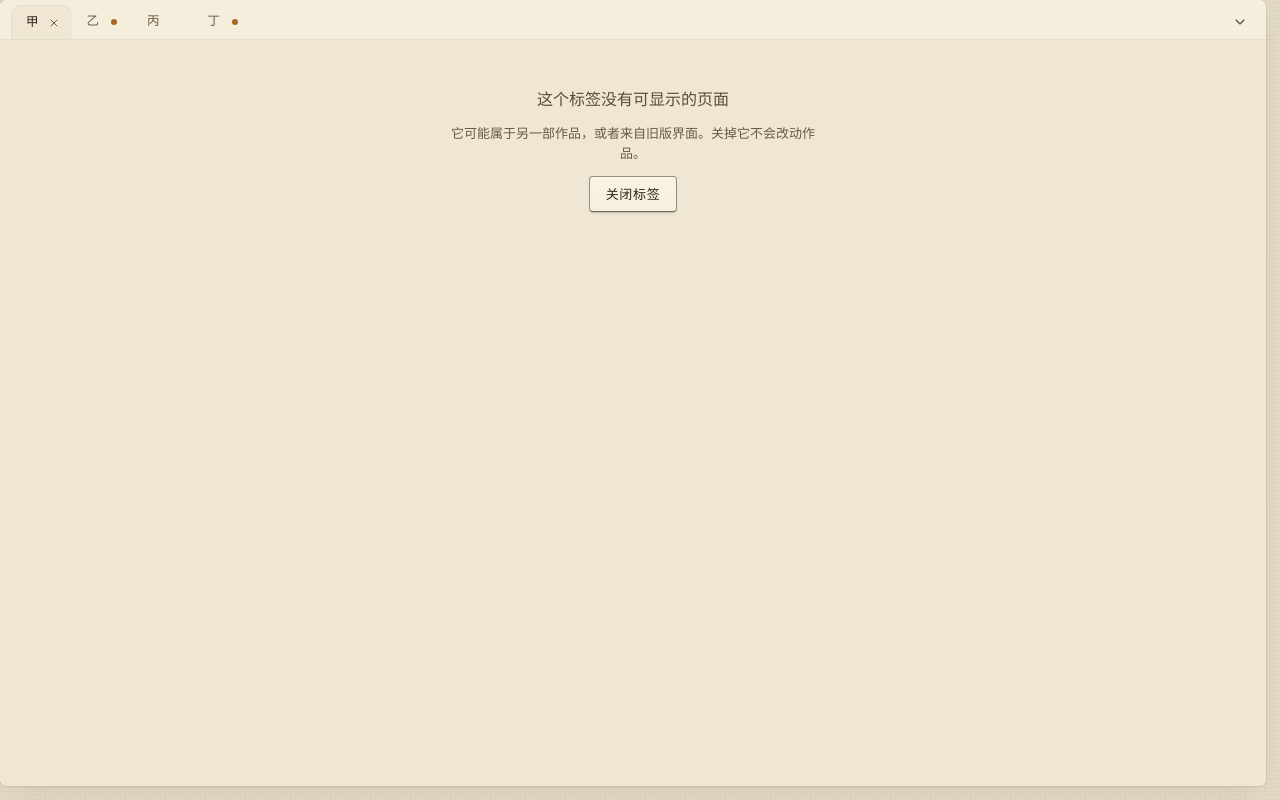
Test: 标签菜单 › 关闭其他标签：没有修改的直接关，有修改的问一次；选继续编辑就留着
Later steps or results of the test are not shown.
What coordinates should you click on to do the following:
click the button named "标签操作"
I would click on:
 (1240, 22)
Its box is [1222,4,1258,40].
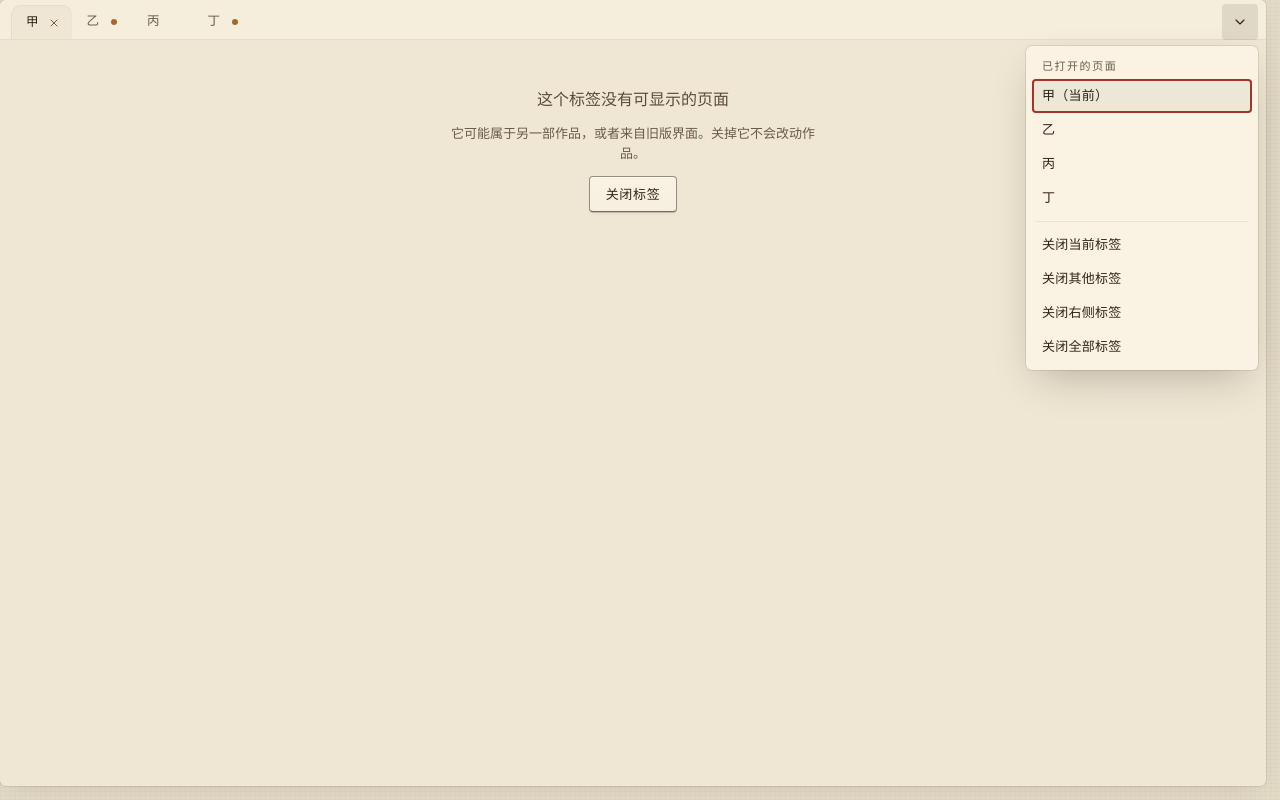
Expected: the menu item "关闭其他标签" is shown
What coordinates should you click on to do the following:
click the menu item "关闭其他标签"
I would click on:
 (1142, 279)
Its box is [1032,262,1252,296].
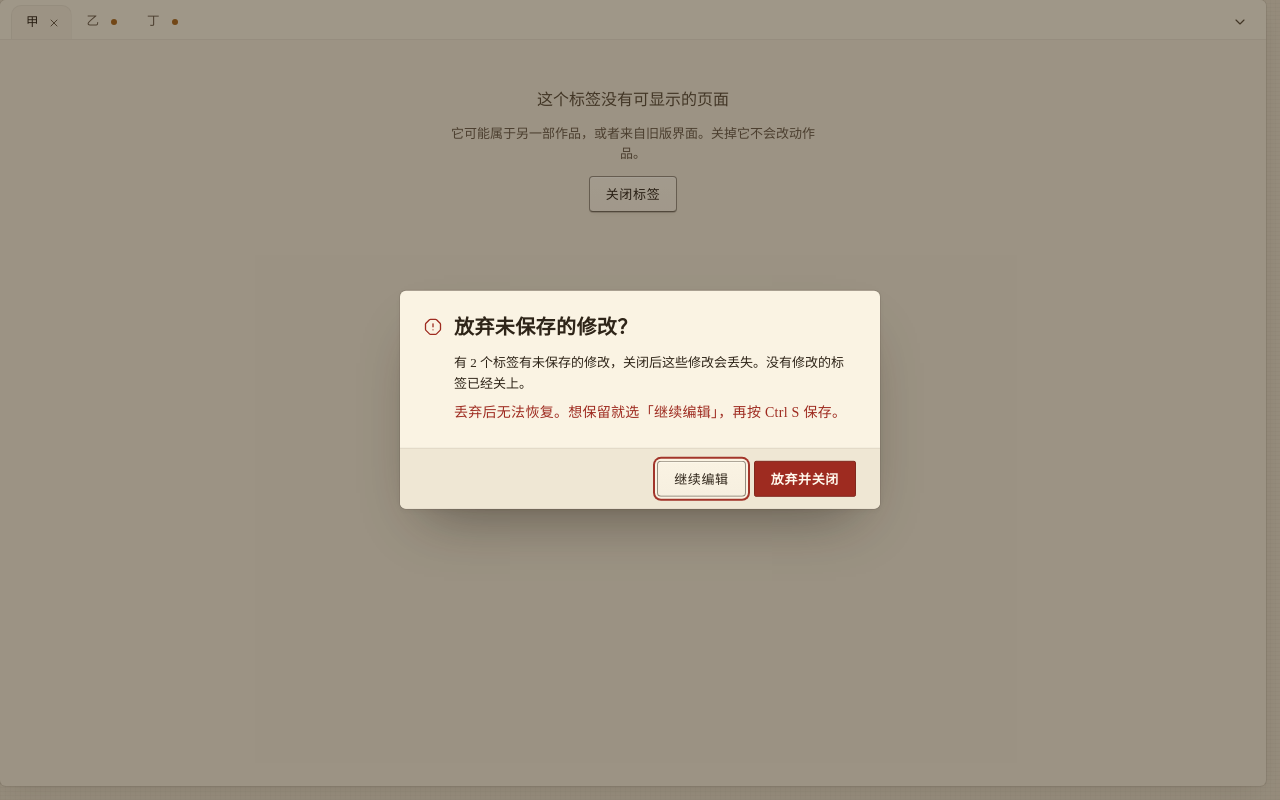
Expected: the dialog shows "有 2 个标签有未保存的修改", [454,355,844,391]
What coordinates should you click on to do the following:
click the button "继续编辑"
I would click on:
 (701, 479)
Its box is [657,461,746,497].
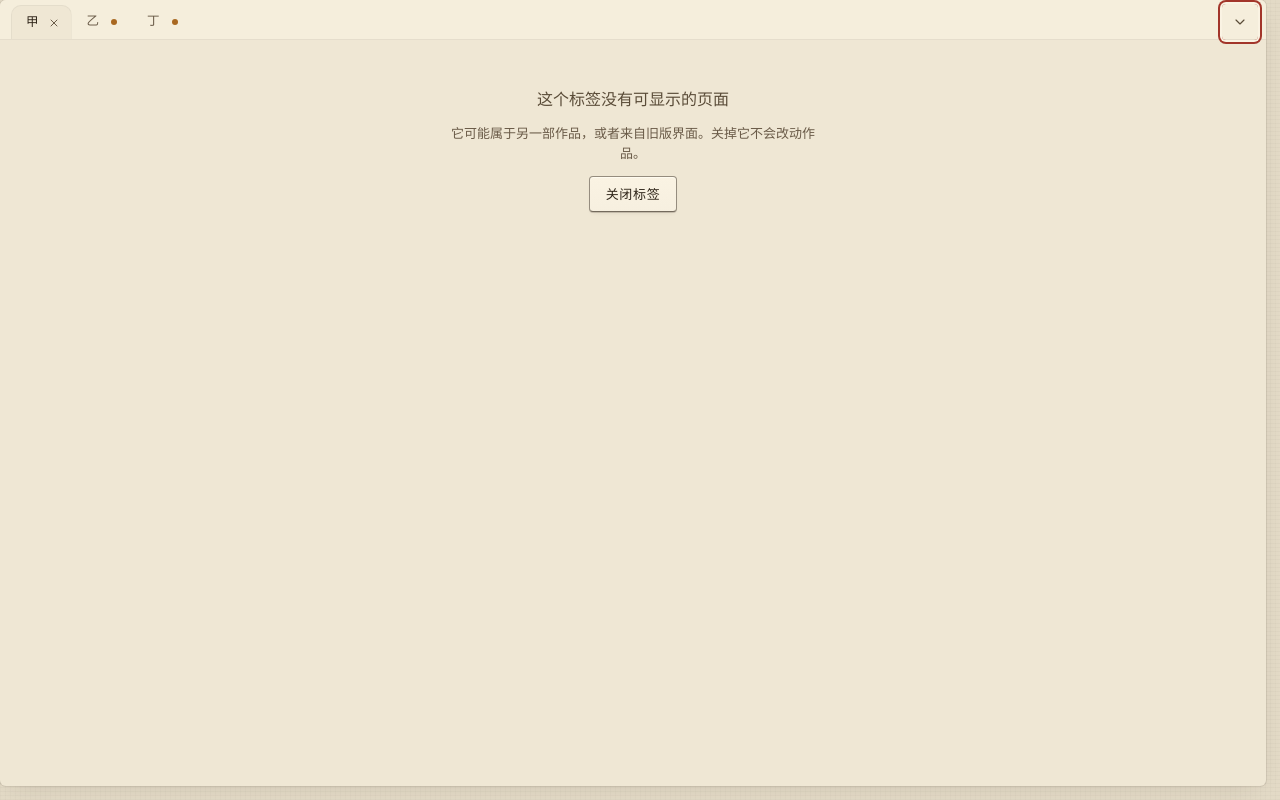
What coordinates should you click on to do the following:
click the button named "标签操作"
I would click on:
 (1240, 22)
Its box is [1222,4,1258,40].
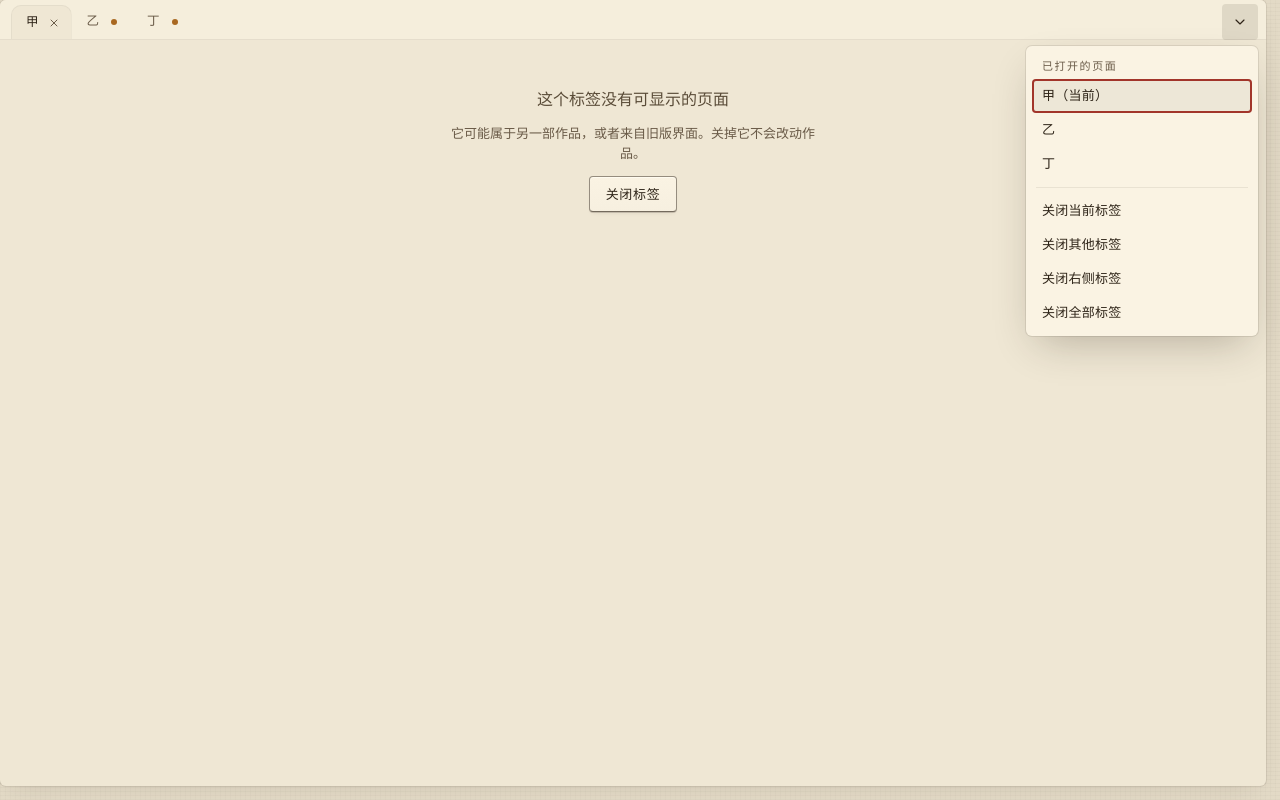
Expected: the menu item "关闭其他标签" is shown, [1032,228,1252,262]
